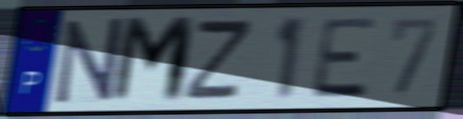1: (272, 14, 306, 104)
7: (388, 16, 440, 100)
E: (308, 15, 381, 101)
M: (108, 14, 200, 107)
N: (53, 15, 125, 108)
Z: (179, 17, 257, 102)
